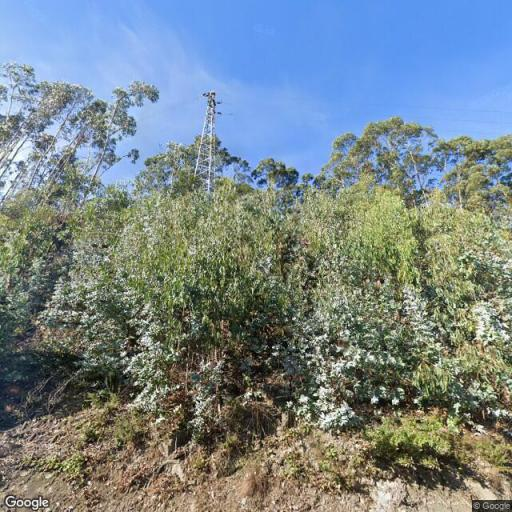ss_1: (194, 89, 225, 201)
